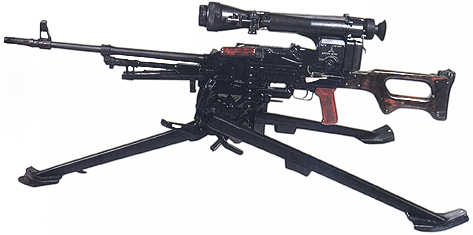rifle: (6, 3, 461, 229)
